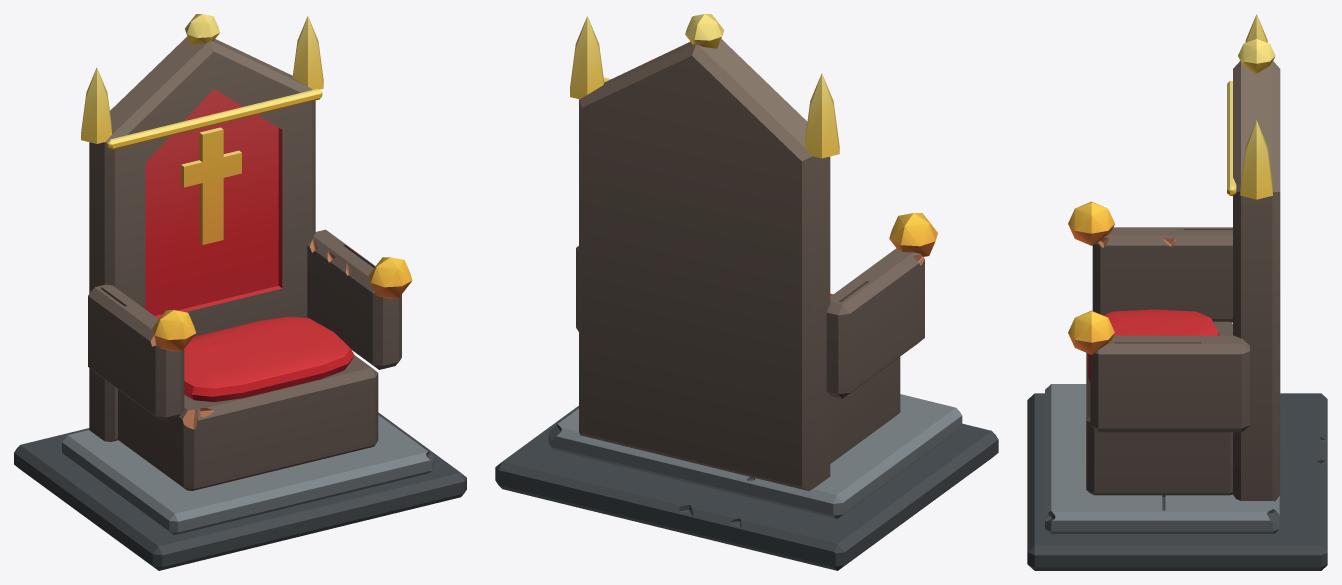
File: throne.glb
3 views of the same model, side by side, from view 1: azimuth 30°, elevation 25°; view 2: azimuth 150°, elevation 25°; view 3: azimuth 270°, elevation 25° (orthographic). The views are drawn at different scales.
Visible parts, largest first — view 1: throne; view 2: throne; view 3: throne.
Part boxes in pixels (left/top/right/bottom): throne: left=14, top=14, right=466, bottom=570; throne: left=495, top=14, right=998, bottom=570; throne: left=1027, top=14, right=1327, bottom=570.
Bounding box in the file's own units: 2.38 × 3.2 × 1.91.
1 material, 1 textured.
